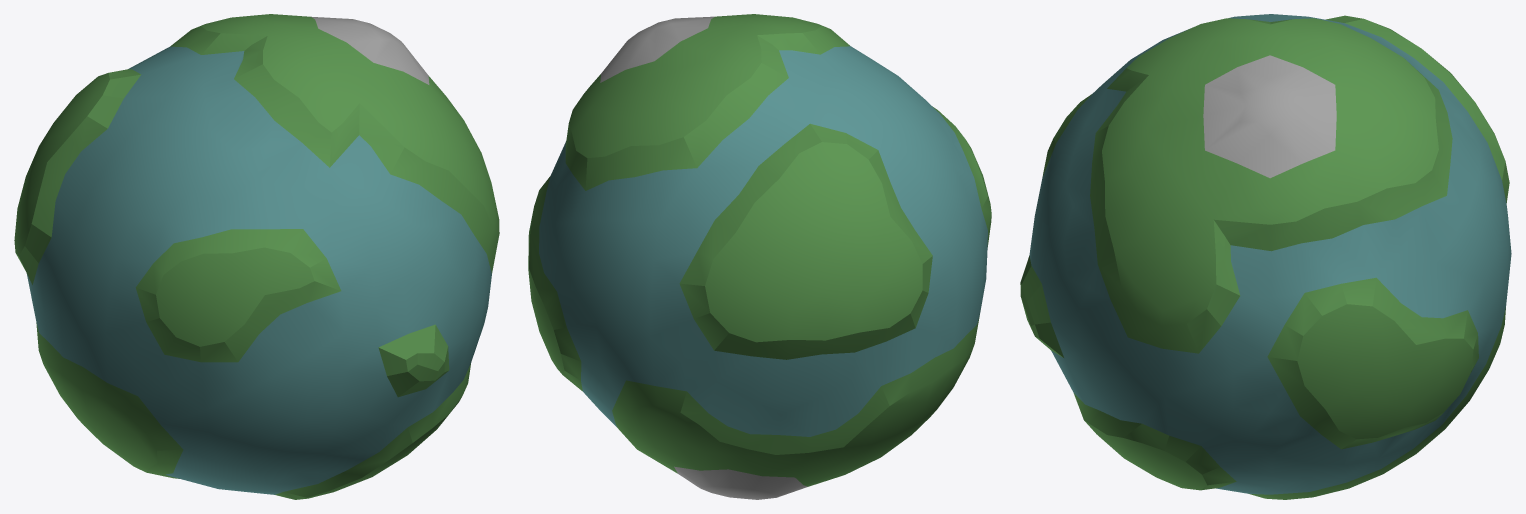
Rendered from planet-1.glb.
3 views of the same model, side by side, from view 1: azimuth 30°, elevation 25°; view 2: azimuth 150°, elevation 25°; view 3: azimuth 270°, elevation 25° (orthographic). The views are drawn at different scales.
Parts seen in each view (by area): view 1: Planet_1; view 2: Planet_1; view 3: Planet_1.
Boxes of the visible parts, x1,y1,x2,y2 form: Planet_1: (14,14,499,499); Planet_1: (528,14,991,499); Planet_1: (1020,14,1511,499).
Size of the model in its own units: 3.78 by 3.93 by 3.8.
